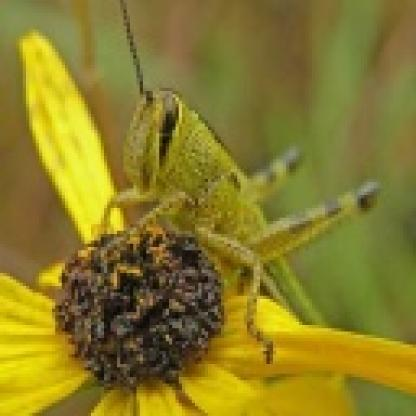grasshopper: (86, 0, 382, 372)
